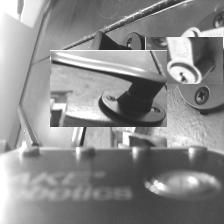Door Handle: (60, 40, 157, 138)
Lock: (160, 21, 224, 99)
